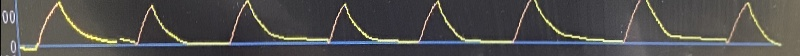normal_volume: (27, 0, 794, 51)
